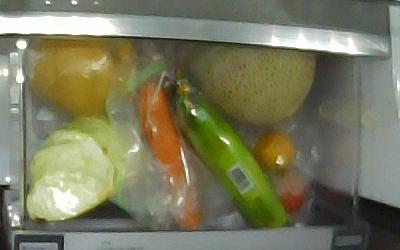cabbage_vinyl: (26, 113, 143, 220)
carrot_vinyl: (136, 81, 202, 229)
melon: (187, 40, 316, 126)
pear_vinyl: (28, 38, 138, 116)
tangerine_vinyl: (254, 129, 295, 177)
tomato_vinyl: (275, 170, 308, 214)
zucchini: (172, 68, 294, 228)
